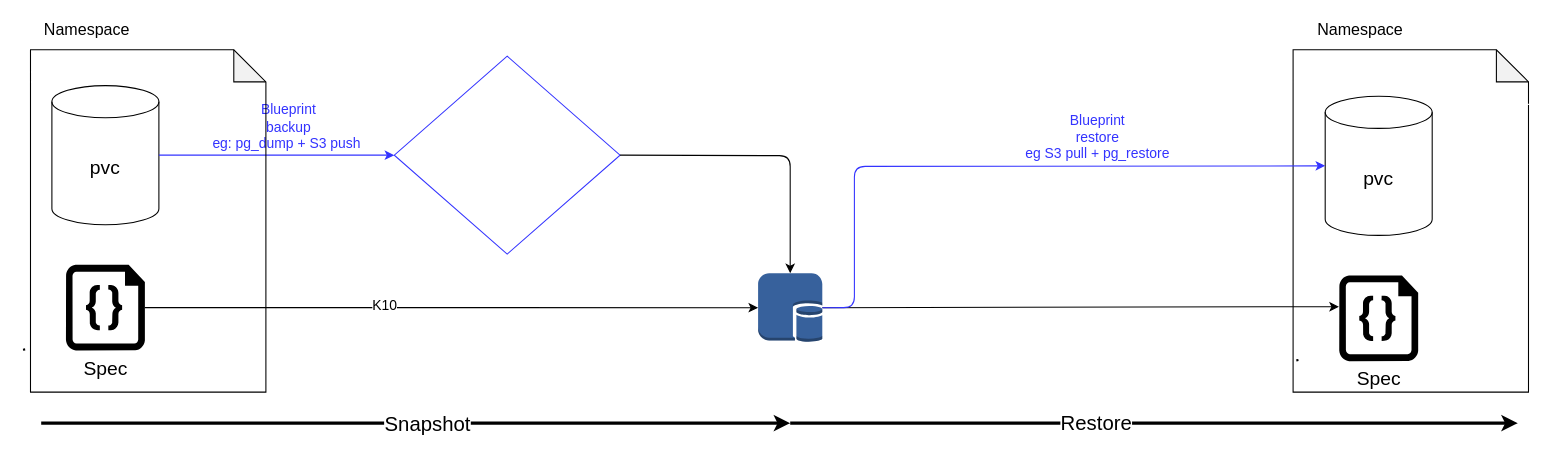
The diagram is 1559 pixels wide and 455 high, and some of its shapes have lost their labels. The centre of each missing label's shape, as x and y in pixels:
logical artifact eg: s3://mybucket/2021-05-30/data.dump.gz: point 506,154
Restore point: point 789,307
